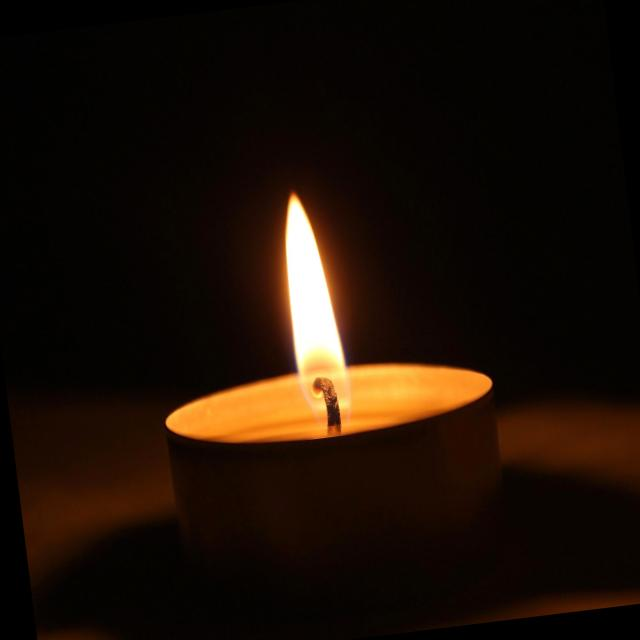Fire_Save: (136, 167, 516, 608)
